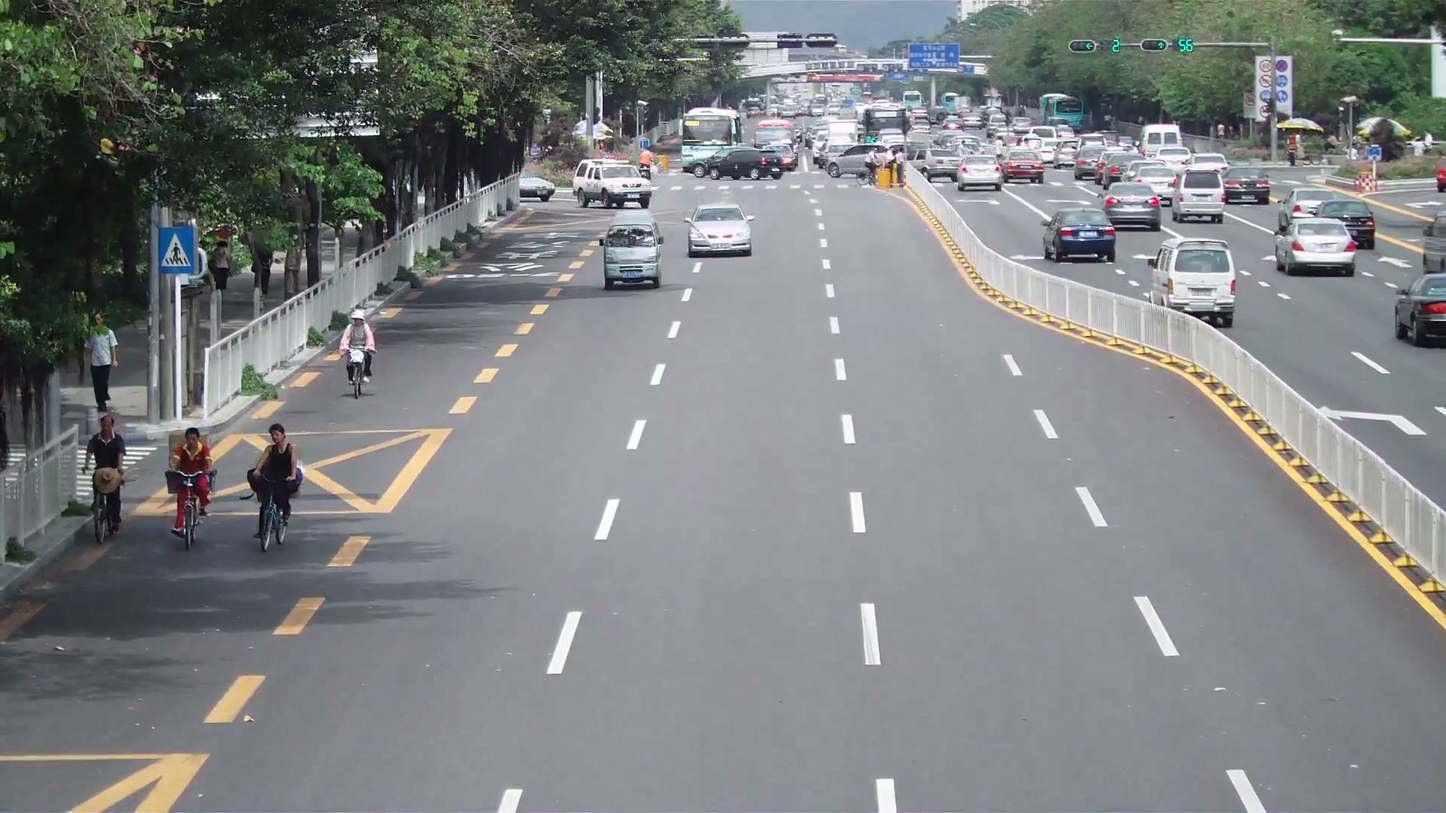bus: (681, 107, 739, 177)
car: (1152, 239, 1238, 327), (1273, 215, 1358, 275), (600, 220, 664, 289), (1043, 206, 1117, 262), (573, 159, 653, 209), (1392, 274, 1445, 347), (687, 202, 755, 257), (1313, 196, 1377, 248), (1102, 181, 1162, 230), (999, 147, 1045, 184), (954, 159, 1003, 192), (518, 174, 555, 201)
pedestrian: (246, 422, 301, 545), (84, 410, 129, 535), (168, 425, 215, 523), (85, 311, 120, 413), (338, 313, 377, 393)
truck: (681, 107, 740, 176), (574, 158, 653, 208), (1171, 157, 1228, 224)
